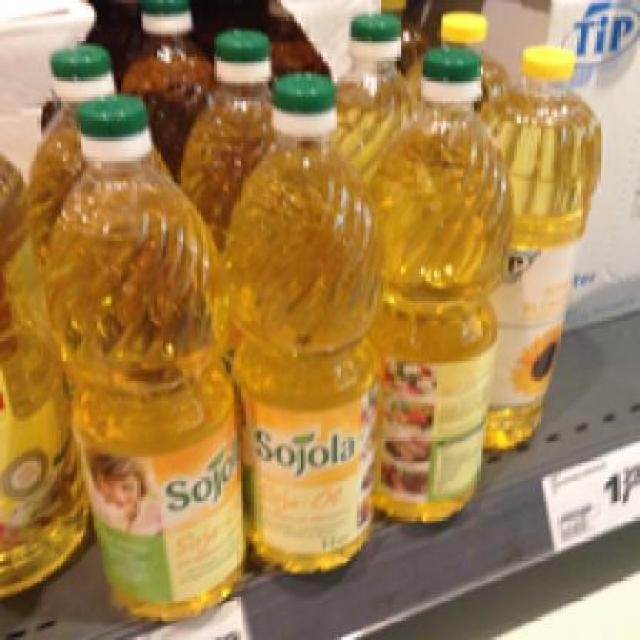Oil: (40, 88, 246, 618), (229, 69, 380, 572), (368, 54, 506, 526)
